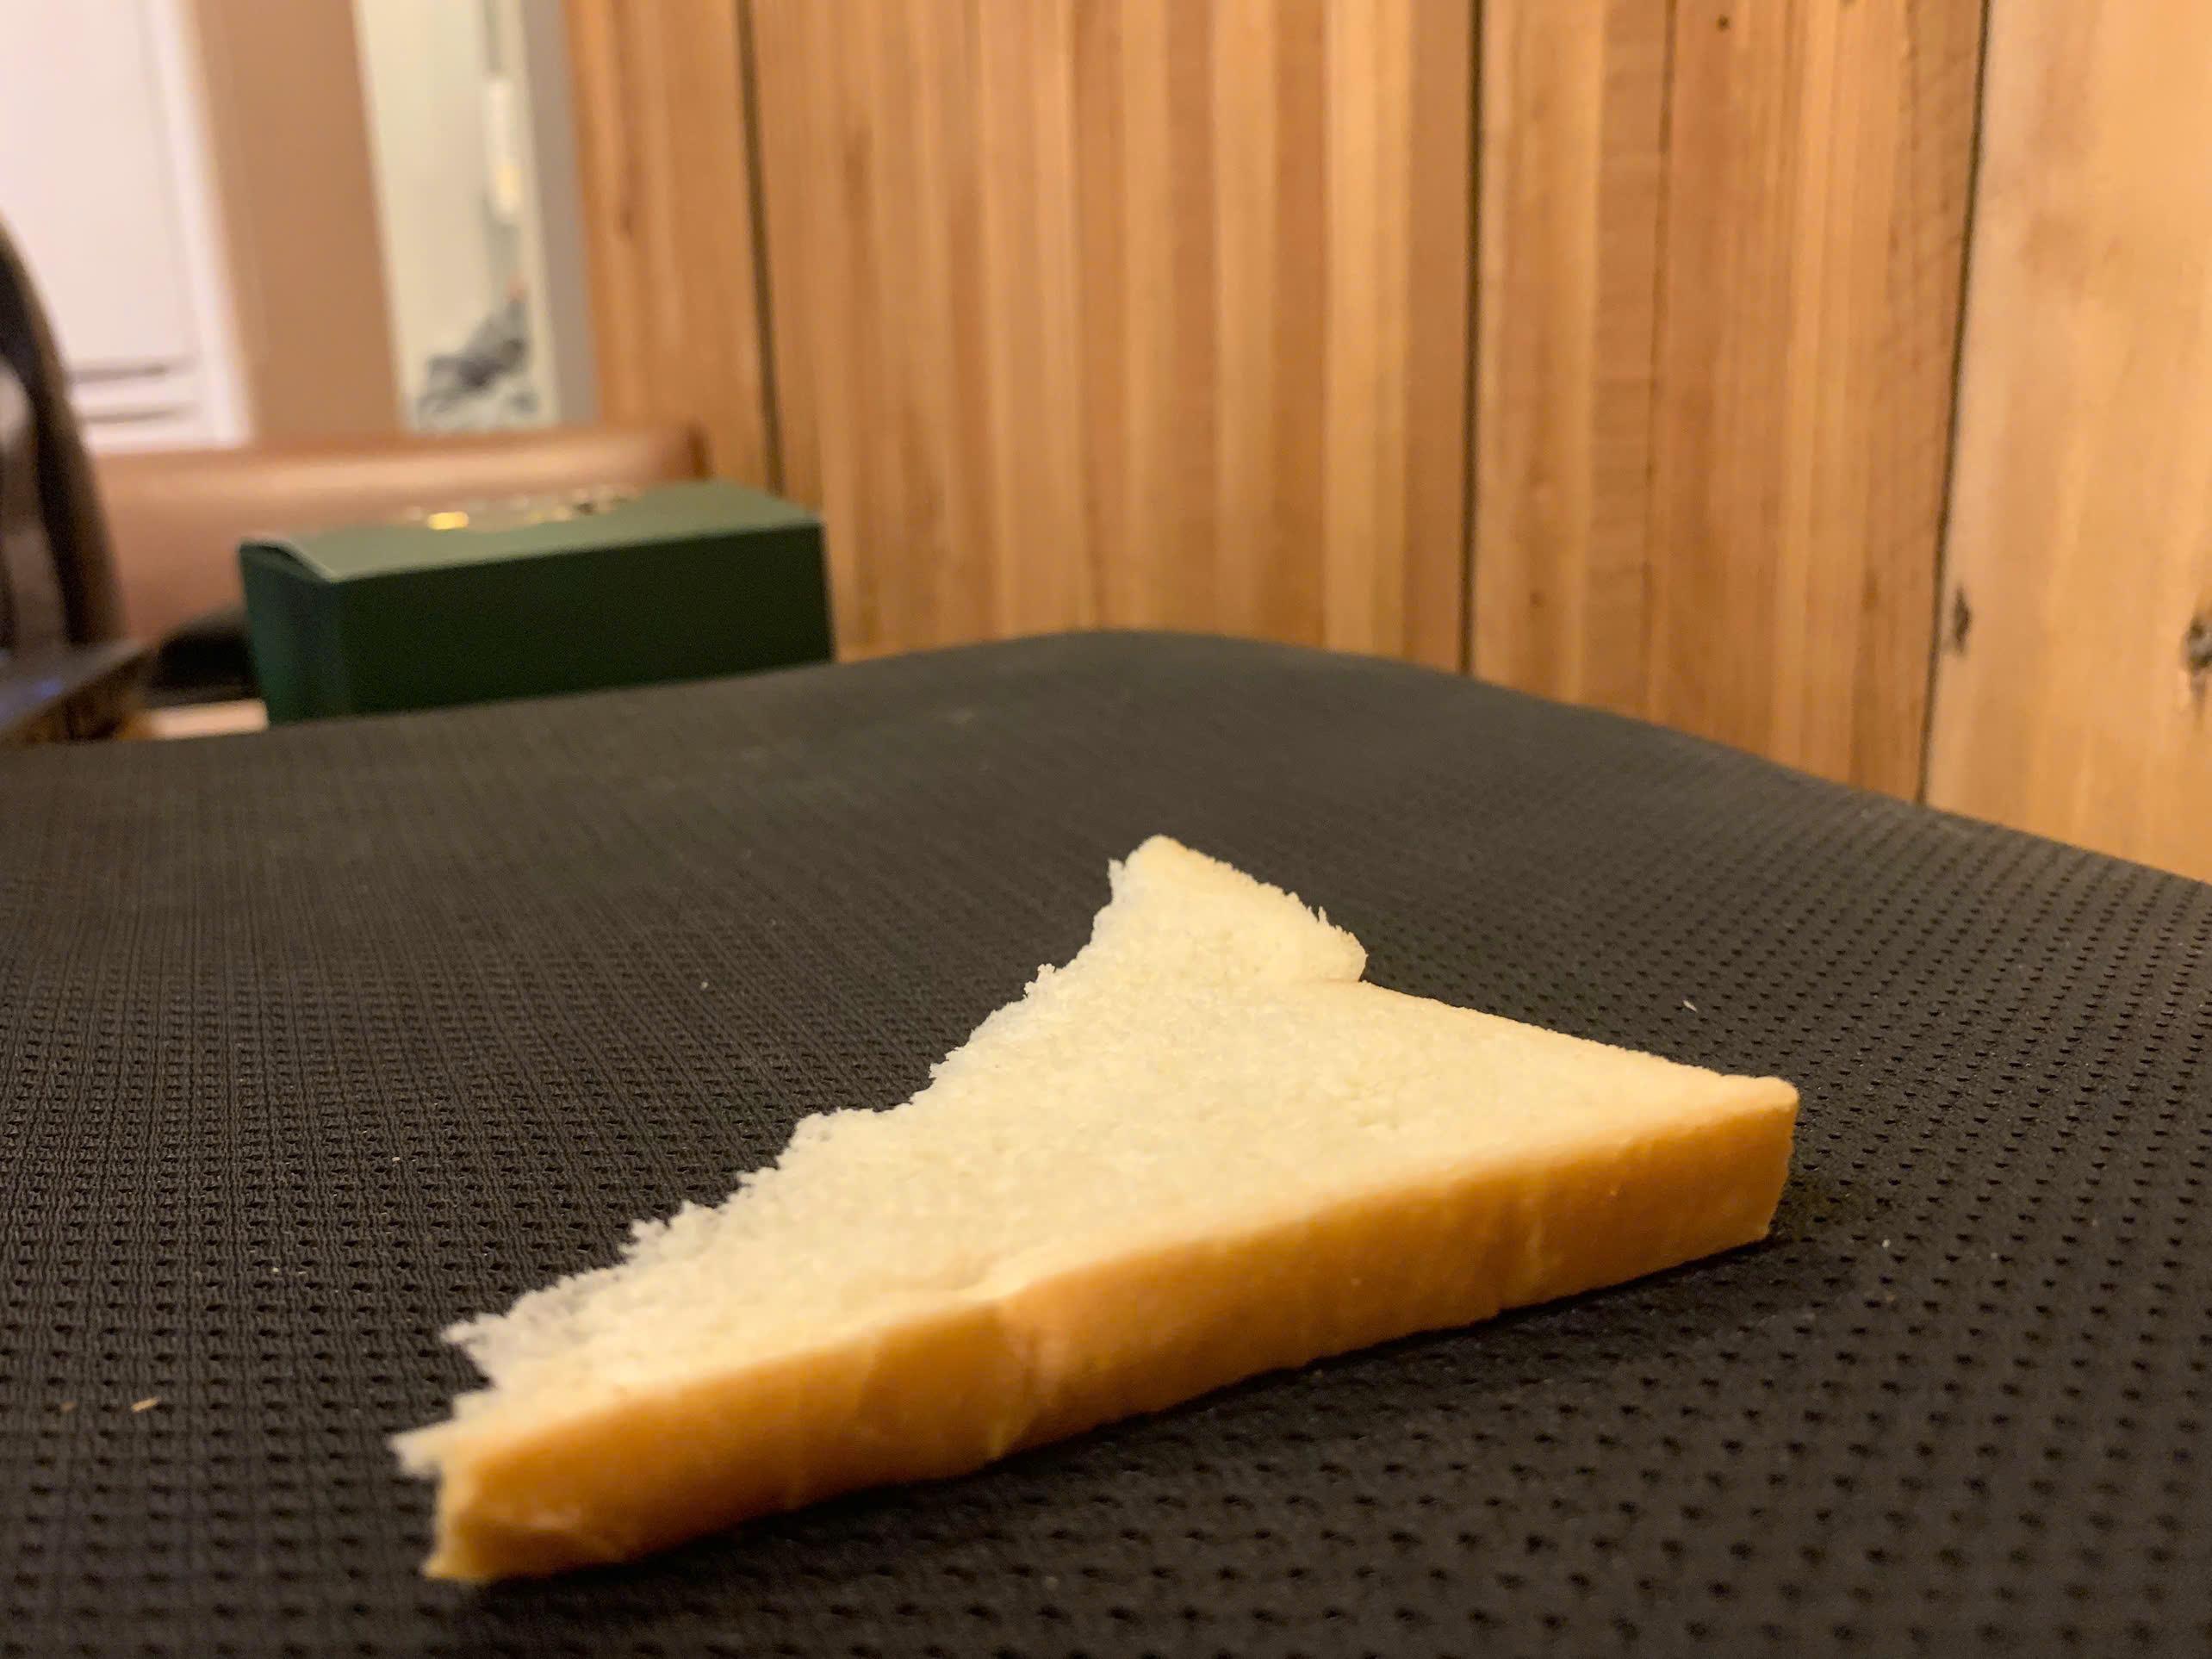Huu co: (439, 838, 1804, 1575)
